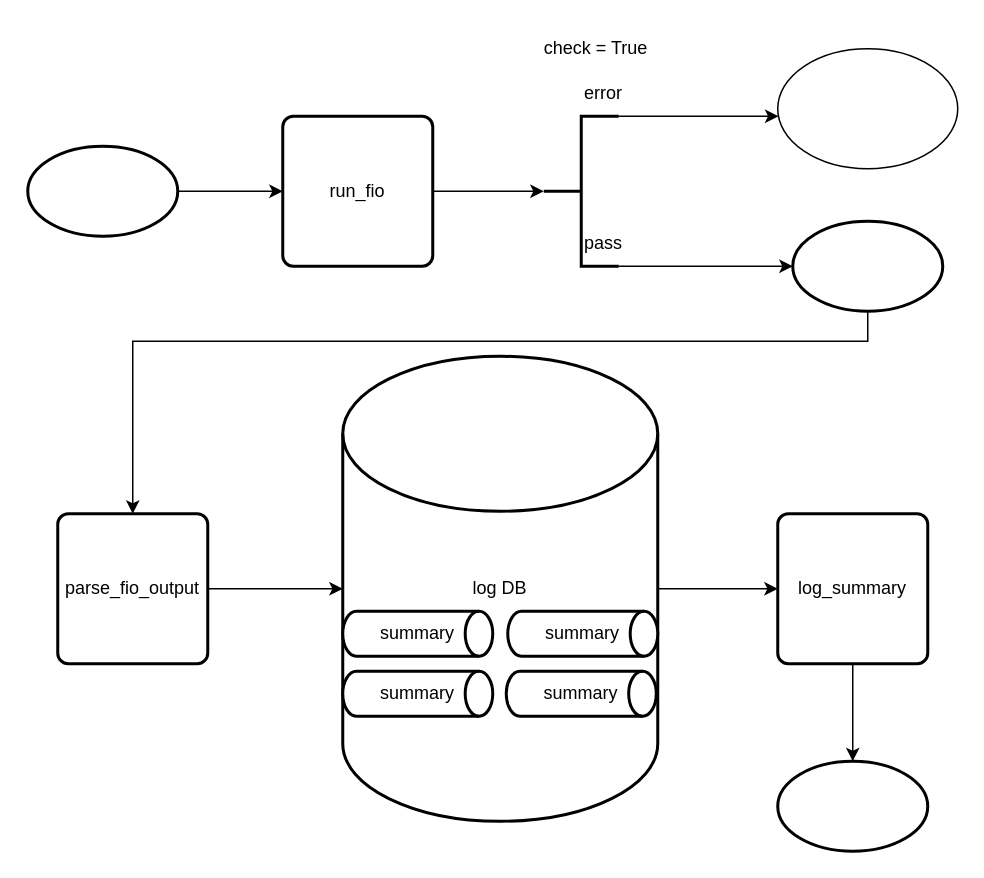
Image size: 984x878. Some labels were removed from this diagram. Here are the shapes that lost their labels. From the top down, the centre of each, then its label:
point 867,108: CalledProcessError
point 102,190: FIO_CONFIG
point 867,265: FIO_OUTPUT
point 852,805: results
